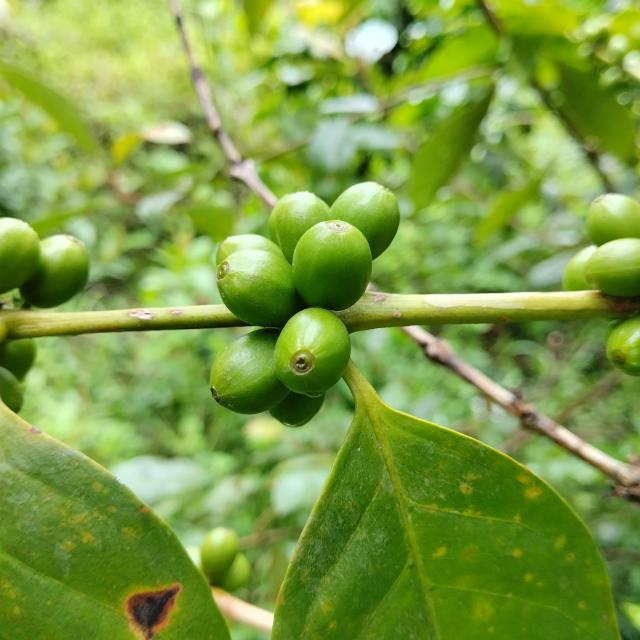green: (292, 220, 372, 311), (210, 328, 290, 415), (274, 308, 351, 398), (216, 249, 303, 327), (331, 181, 401, 259), (19, 234, 89, 308), (276, 191, 330, 264), (585, 238, 640, 296), (0, 217, 39, 293), (588, 193, 640, 246), (216, 234, 284, 265), (607, 316, 640, 376), (269, 392, 325, 427), (563, 244, 598, 291)
